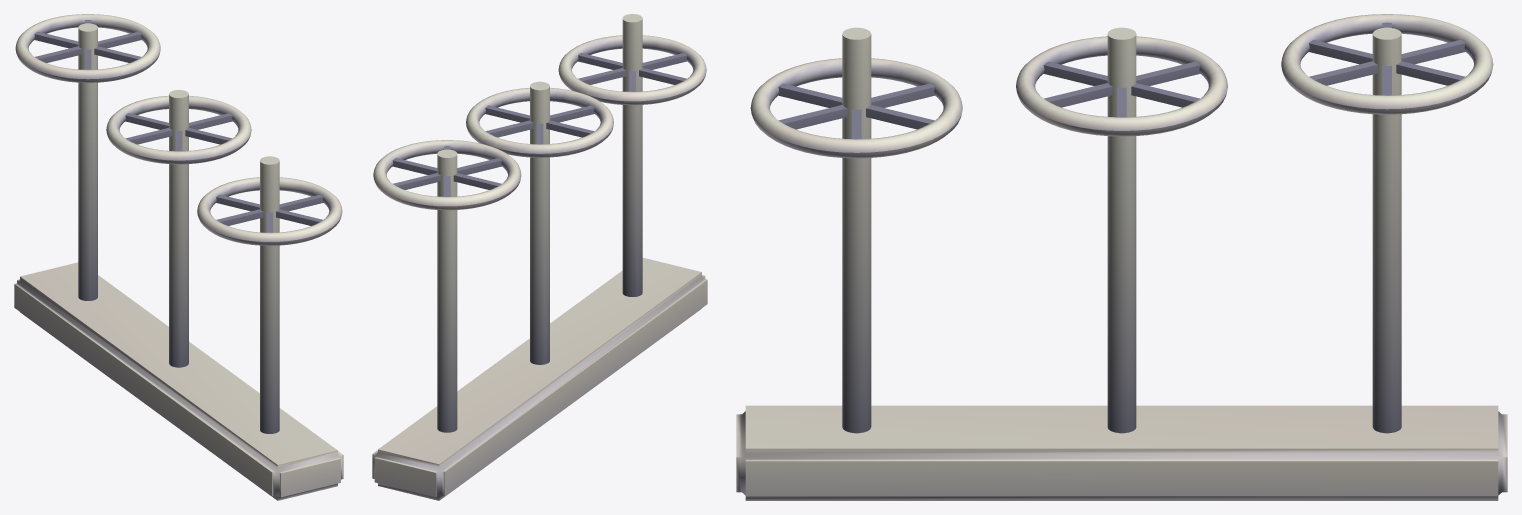
The model's file is sluice-wheels.glb.
3 views of the same model, side by side, from view 1: azimuth 30°, elevation 25°; view 2: azimuth 150°, elevation 25°; view 3: azimuth 270°, elevation 25° (orthographic). The views are drawn at different scales.
Visible parts, largest first — view 1: body; view 2: body; view 3: body.
Part boxes in pixels (<box>): body: <box>14,14,343,500</box>; body: <box>372,14,707,500</box>; body: <box>736,14,1507,500</box>.
Bounding box in the file's own units: 0.44 × 1.02 × 1.6.
